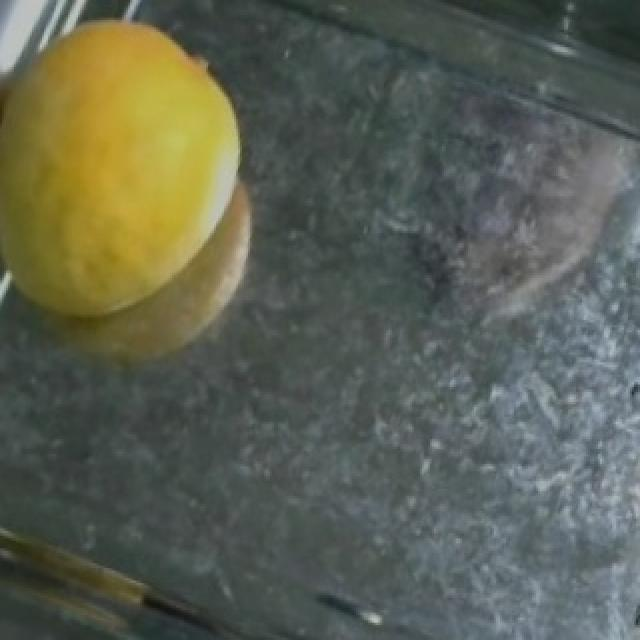fruit: (8, 2, 314, 364)
